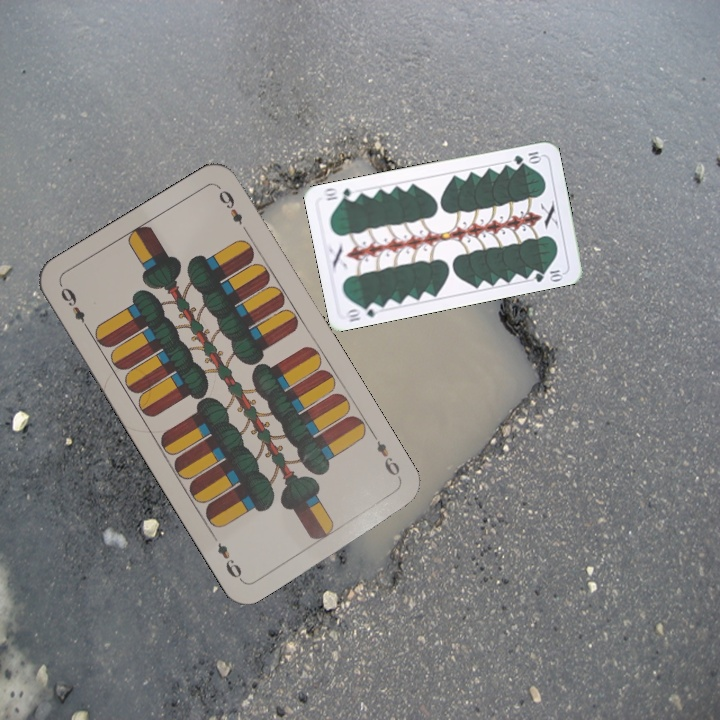E9: (56, 281, 93, 335), (369, 430, 405, 485)
G10: (342, 299, 383, 324), (510, 147, 545, 167)
